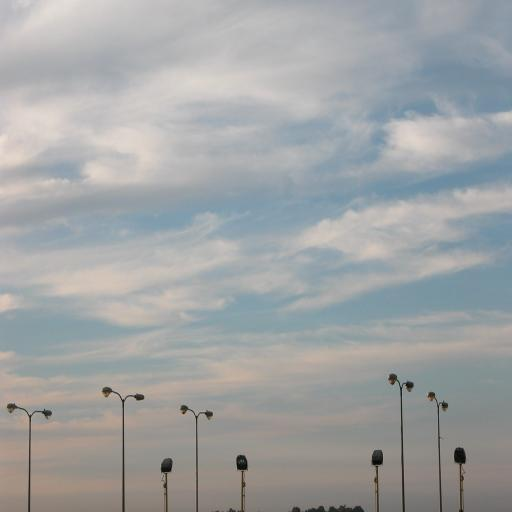off street light: (99, 382, 148, 512), (4, 391, 52, 512), (385, 369, 417, 512), (180, 402, 214, 512), (426, 384, 452, 512)
